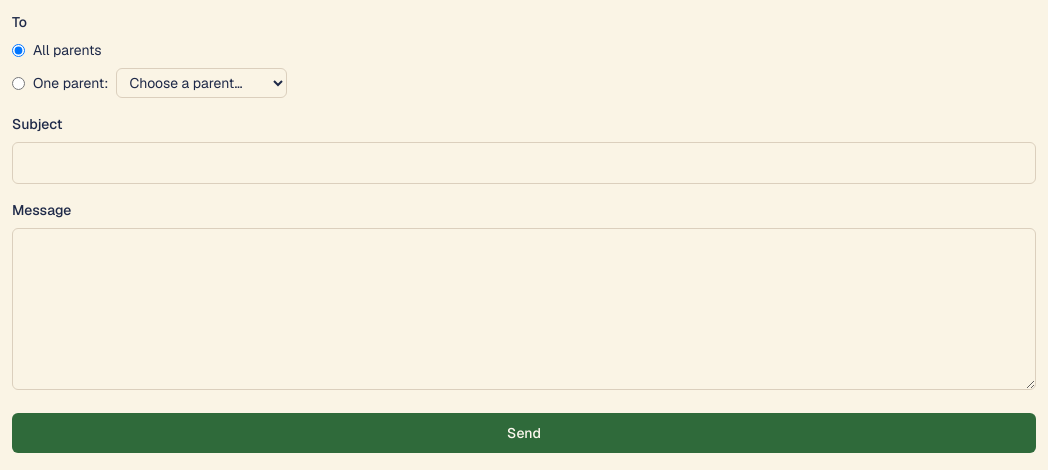
ComposeForm audience picker › switches to One parent when the select is opened, without clicking the radio
Click the dropdown named "Which parent" at (202, 83), box [116,68,287,98]
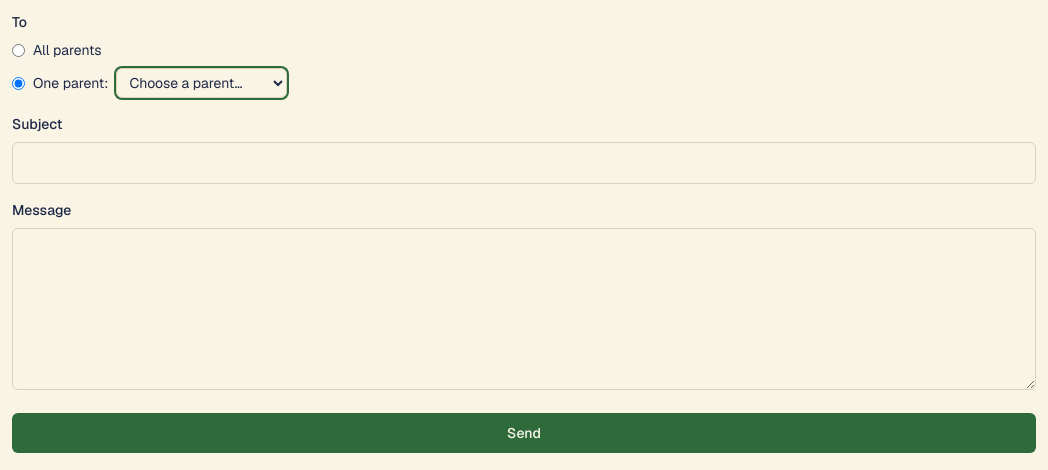
Now the radio button labelled "All parents" is not checked, box [12,44,25,56]
Now the radio button labelled "One parent:" is checked, box [12,76,25,90]
